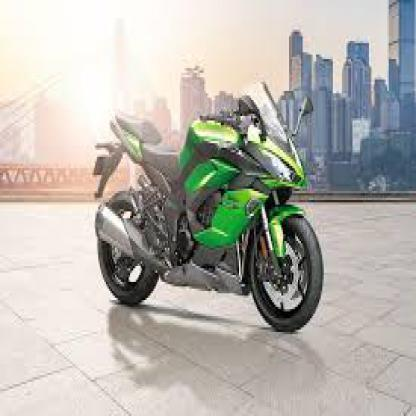Motorcycle: (88, 75, 333, 337)
